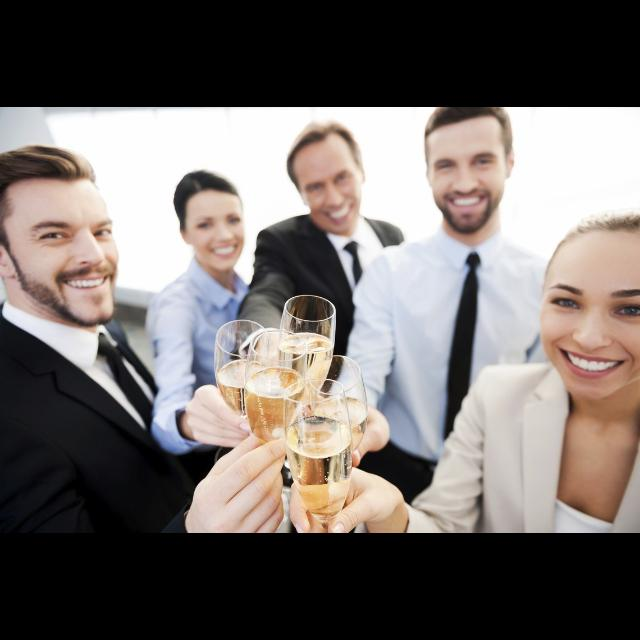head: (0, 148, 120, 328), (424, 106, 518, 232), (291, 128, 367, 236), (172, 170, 246, 274)
